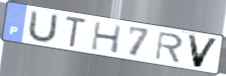7: (127, 26, 151, 59)
H: (90, 20, 124, 56)
R: (154, 31, 185, 65)
T: (64, 15, 89, 49)
U: (25, 9, 60, 44)
V: (186, 33, 221, 69)
